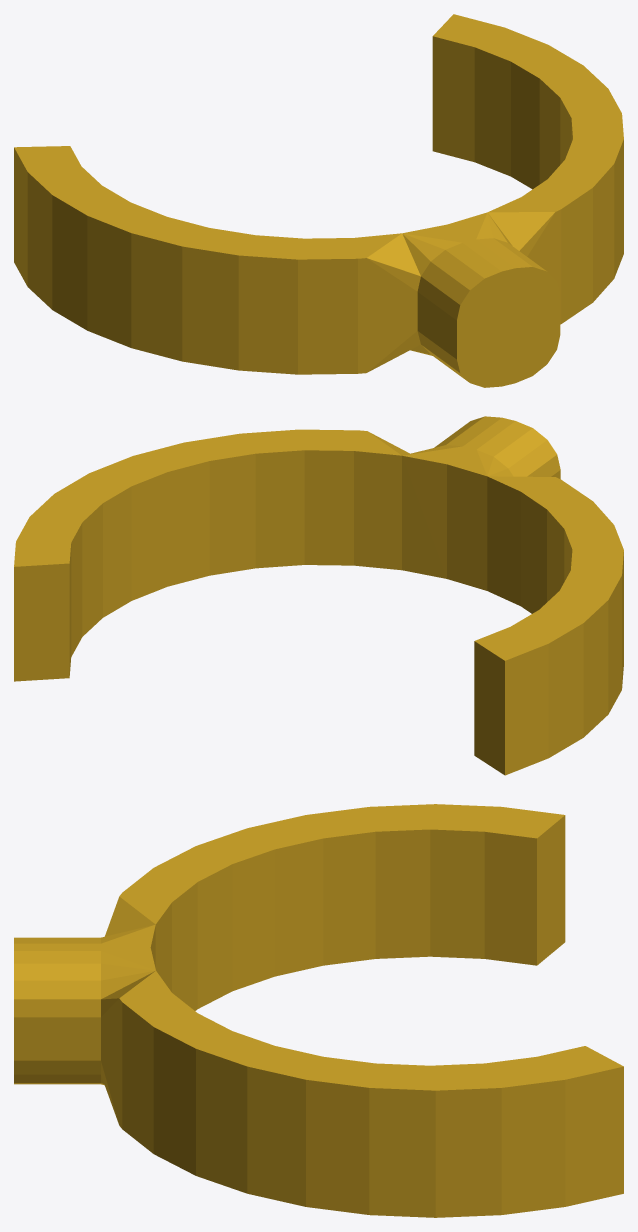
Rendered from VIS_ShoulderInterface.dae.
The picture shows the model from 3 angles, top to bottom: view 1: azimuth 30°, elevation 25°; view 2: azimuth 150°, elevation 25°; view 3: azimuth 270°, elevation 25°; orthographic projection. The views are drawn at different scales.
Parts seen in each view (by area): view 1: VIS_ShoulderInterface; view 2: VIS_ShoulderInterface; view 3: VIS_ShoulderInterface.
Boxes of the visible parts, x1,y1,x2,y2 form: VIS_ShoulderInterface: (14,14,623,387); VIS_ShoulderInterface: (14,416,623,775); VIS_ShoulderInterface: (14,804,623,1217).
Size of the model in its own units: 0.0567 by 0.051 by 0.0117.
